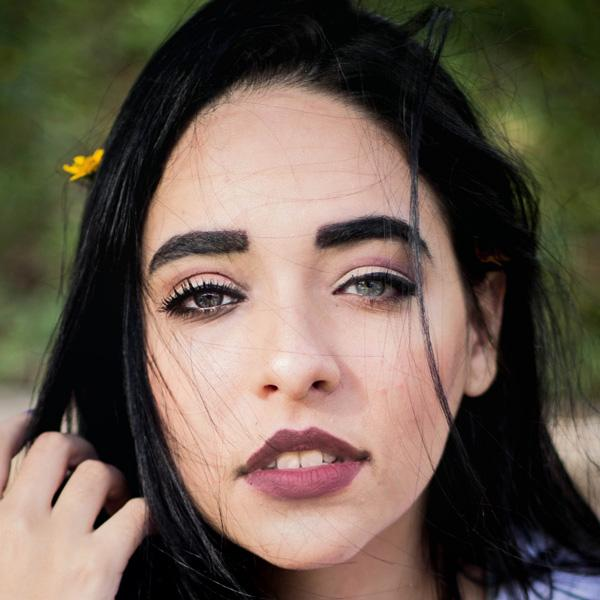Eyes: (316, 250, 429, 324), (149, 265, 252, 330)
